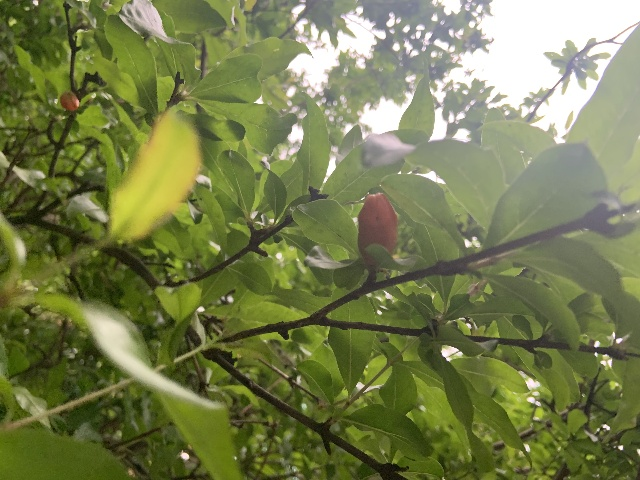bud: (357, 192, 398, 265), (59, 91, 79, 110)
